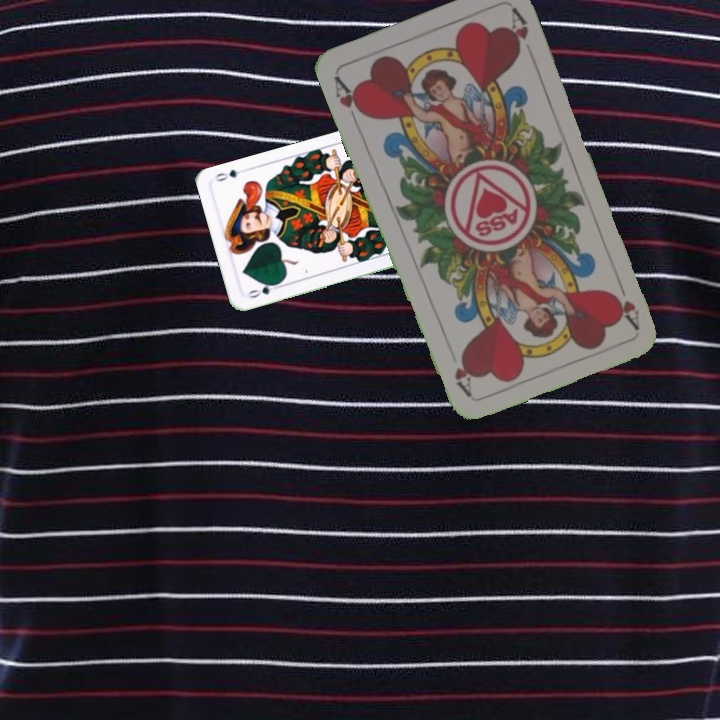GO: (244, 279, 283, 301)
HA: (608, 274, 642, 331), (330, 72, 369, 121)
